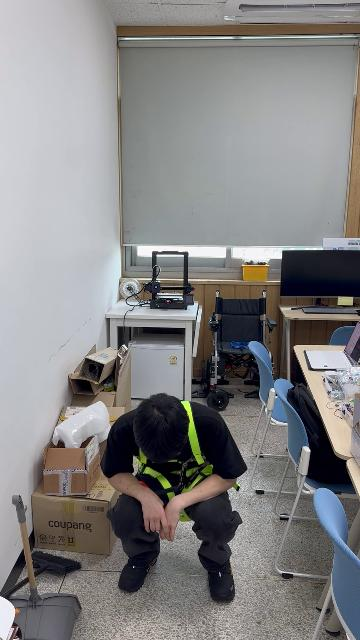helmet_not_worn: (136, 396, 188, 457)
shoe_worn: (118, 549, 160, 592), (203, 557, 235, 601)
vest_worn: (134, 404, 221, 516)
